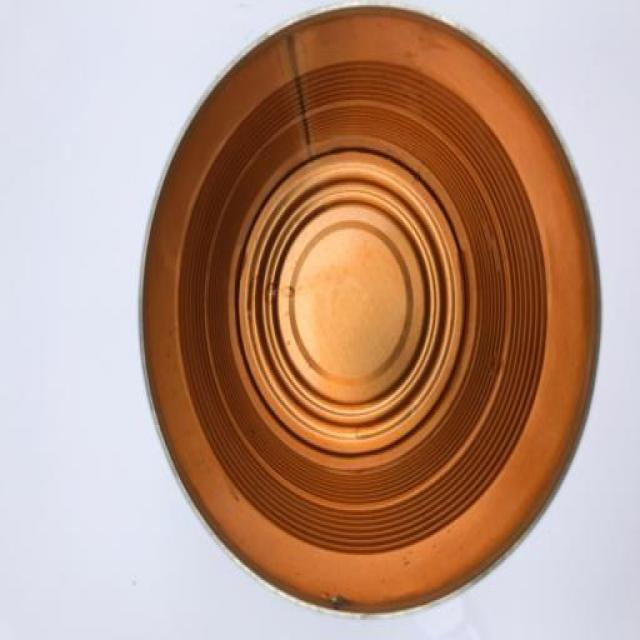metel: (132, 5, 636, 629)
